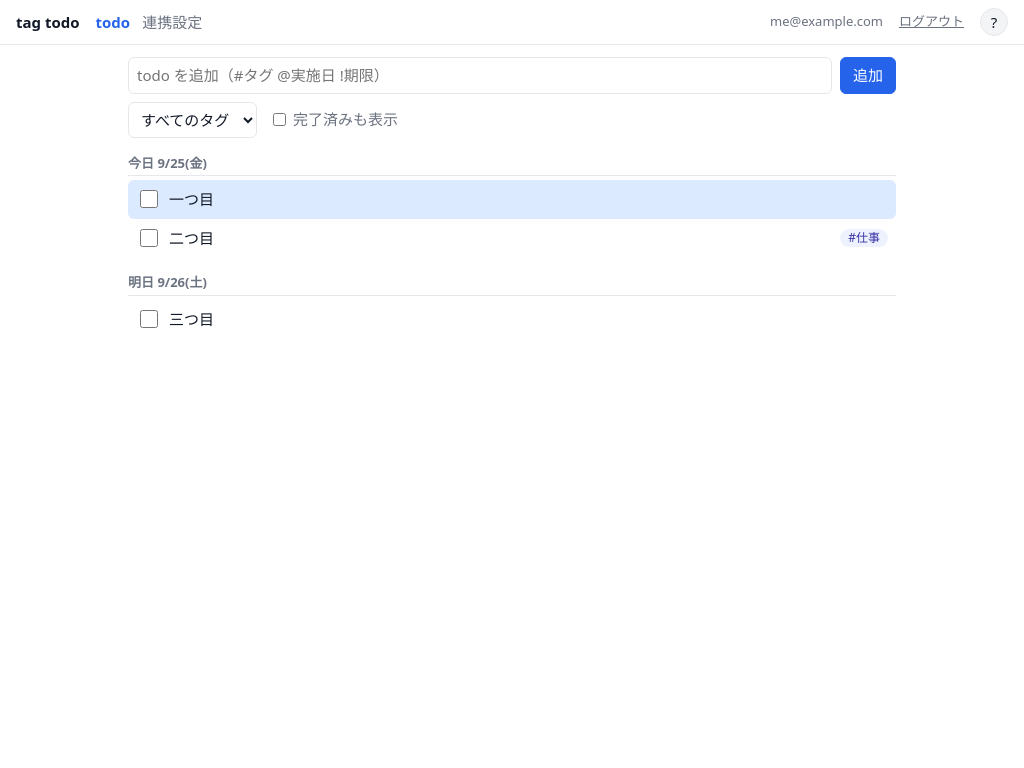
Test: キーボード操作 › e で編集ダイアログを開き、保存できる
This screenshot has width=1024, height=768.
Expected: the button "一つ目" is shown, top-left (169, 186), bottom-right (880, 212)
Type keys "e"
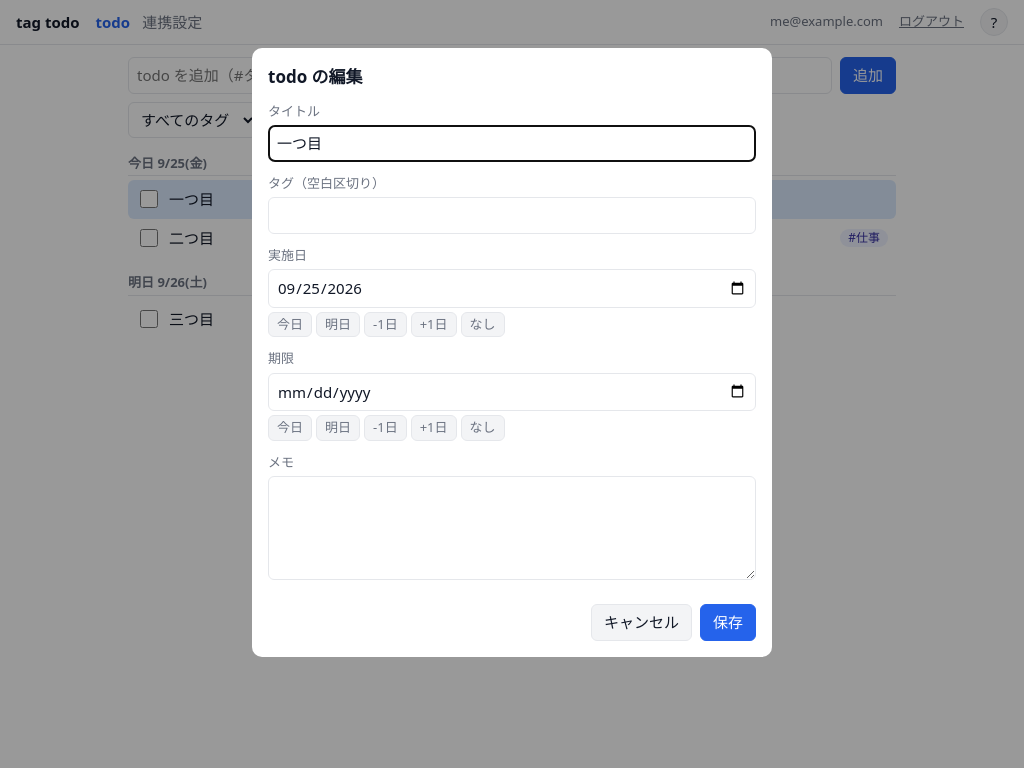
Replace the text in the field labelled "タイトル" with "変更後" at point(512, 143), box top-left (268, 125), bottom-right (756, 162)
Then press Enter
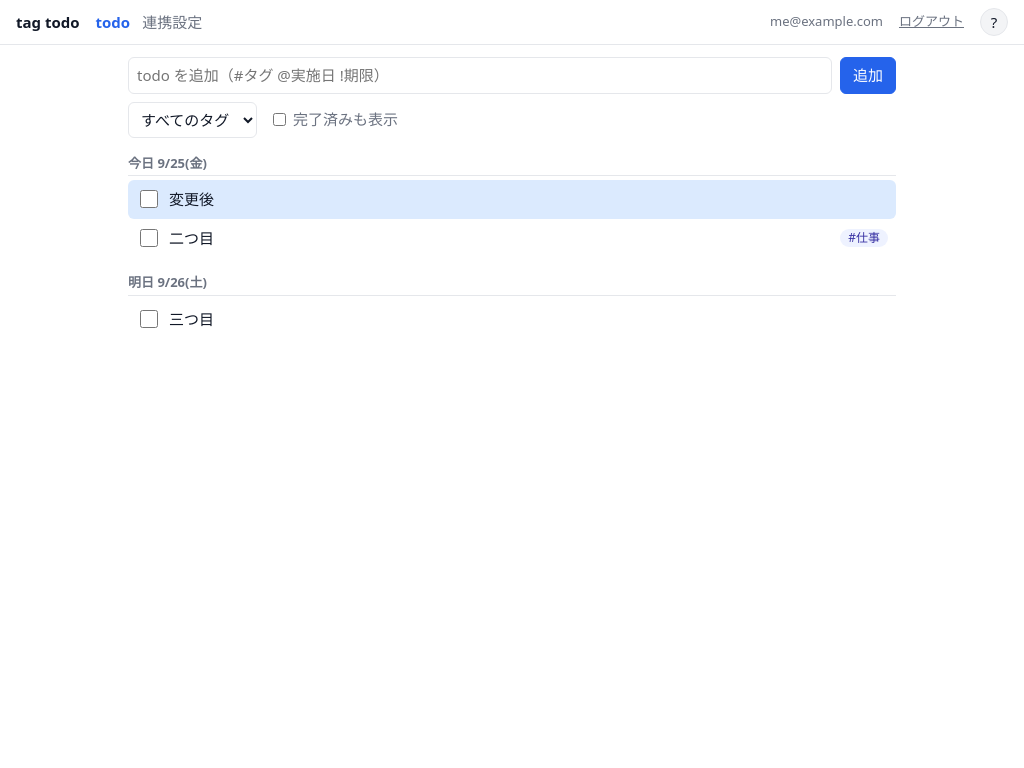
Now the dialog is gone
